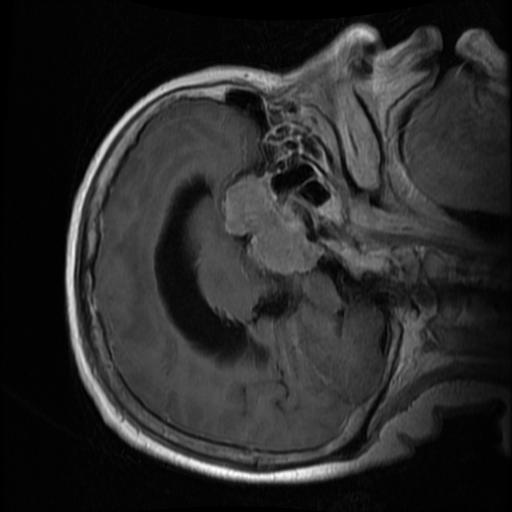meningioma: (225, 174, 311, 275)
